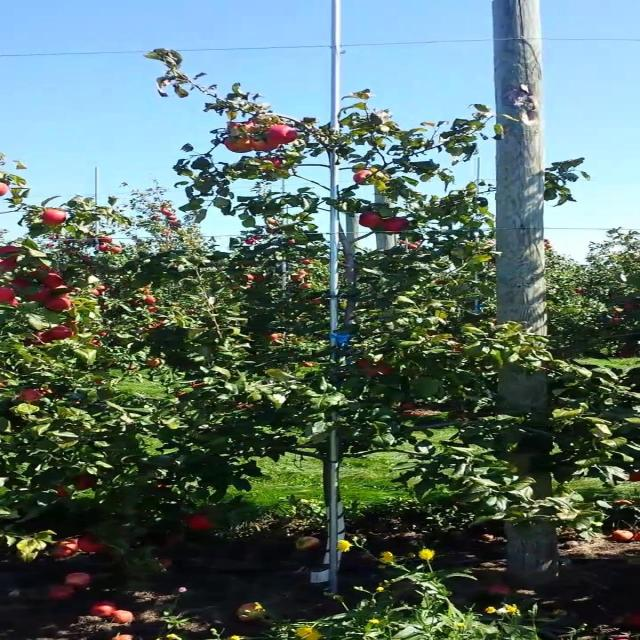apple: (77, 536, 107, 553), (269, 128, 299, 144), (191, 516, 215, 532), (362, 212, 384, 228), (42, 212, 69, 225), (28, 288, 55, 301), (255, 140, 283, 152), (227, 140, 251, 153), (383, 220, 409, 232), (262, 156, 284, 169), (77, 476, 96, 490), (49, 300, 71, 312), (42, 276, 64, 287), (56, 328, 76, 340), (49, 288, 75, 296), (20, 392, 43, 401), (618, 348, 635, 359), (234, 124, 256, 132), (355, 172, 370, 183), (35, 268, 55, 276), (6, 260, 20, 271), (376, 364, 391, 374), (42, 332, 55, 343), (13, 280, 30, 288), (56, 488, 68, 496), (6, 288, 14, 300), (362, 360, 372, 368), (8, 300, 20, 306), (6, 248, 20, 253), (369, 372, 377, 376)
